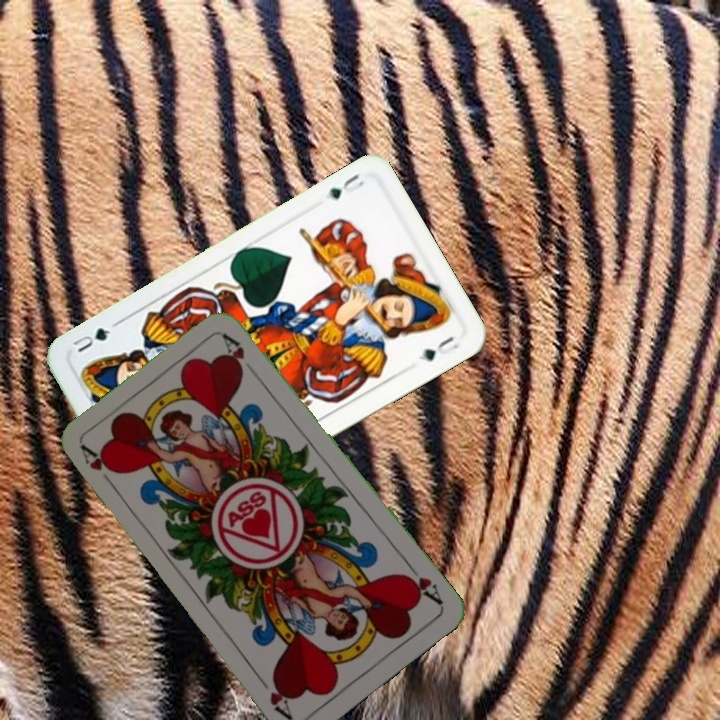GU: (323, 169, 367, 202)
HA: (399, 558, 446, 608), (77, 442, 120, 493)
